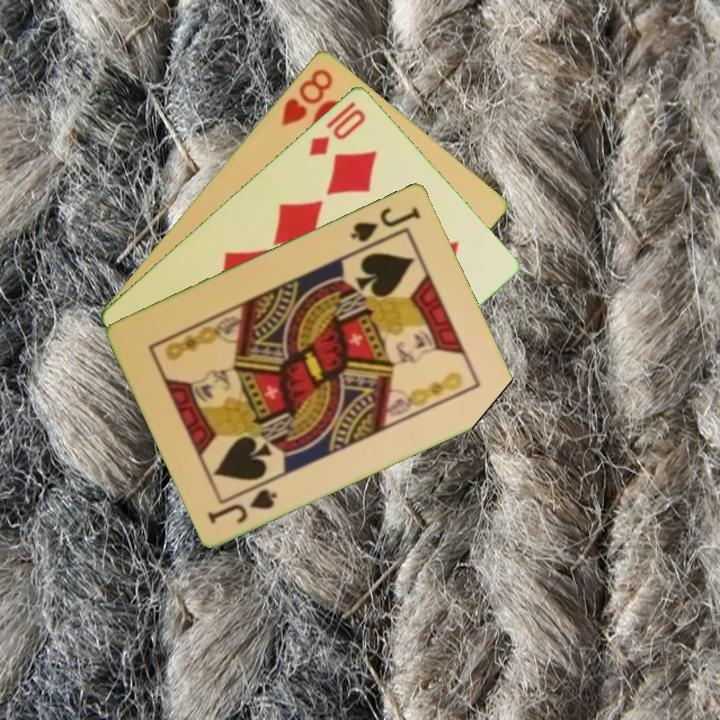10d: (305, 105, 369, 159)
8h: (277, 64, 336, 129)
Js: (204, 484, 281, 527), (347, 202, 423, 245)
